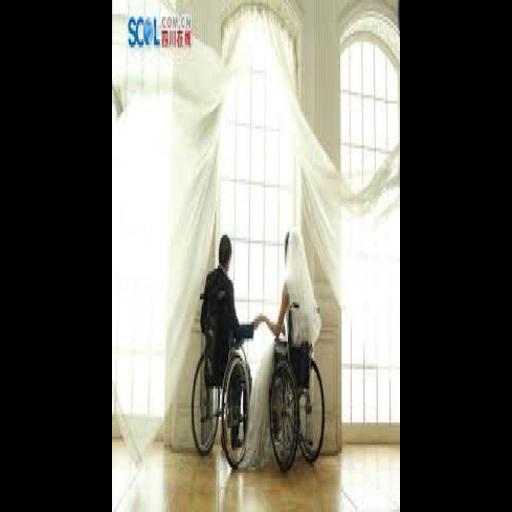cadeira_de_rodas: (265, 226, 328, 479), (188, 231, 254, 467)
